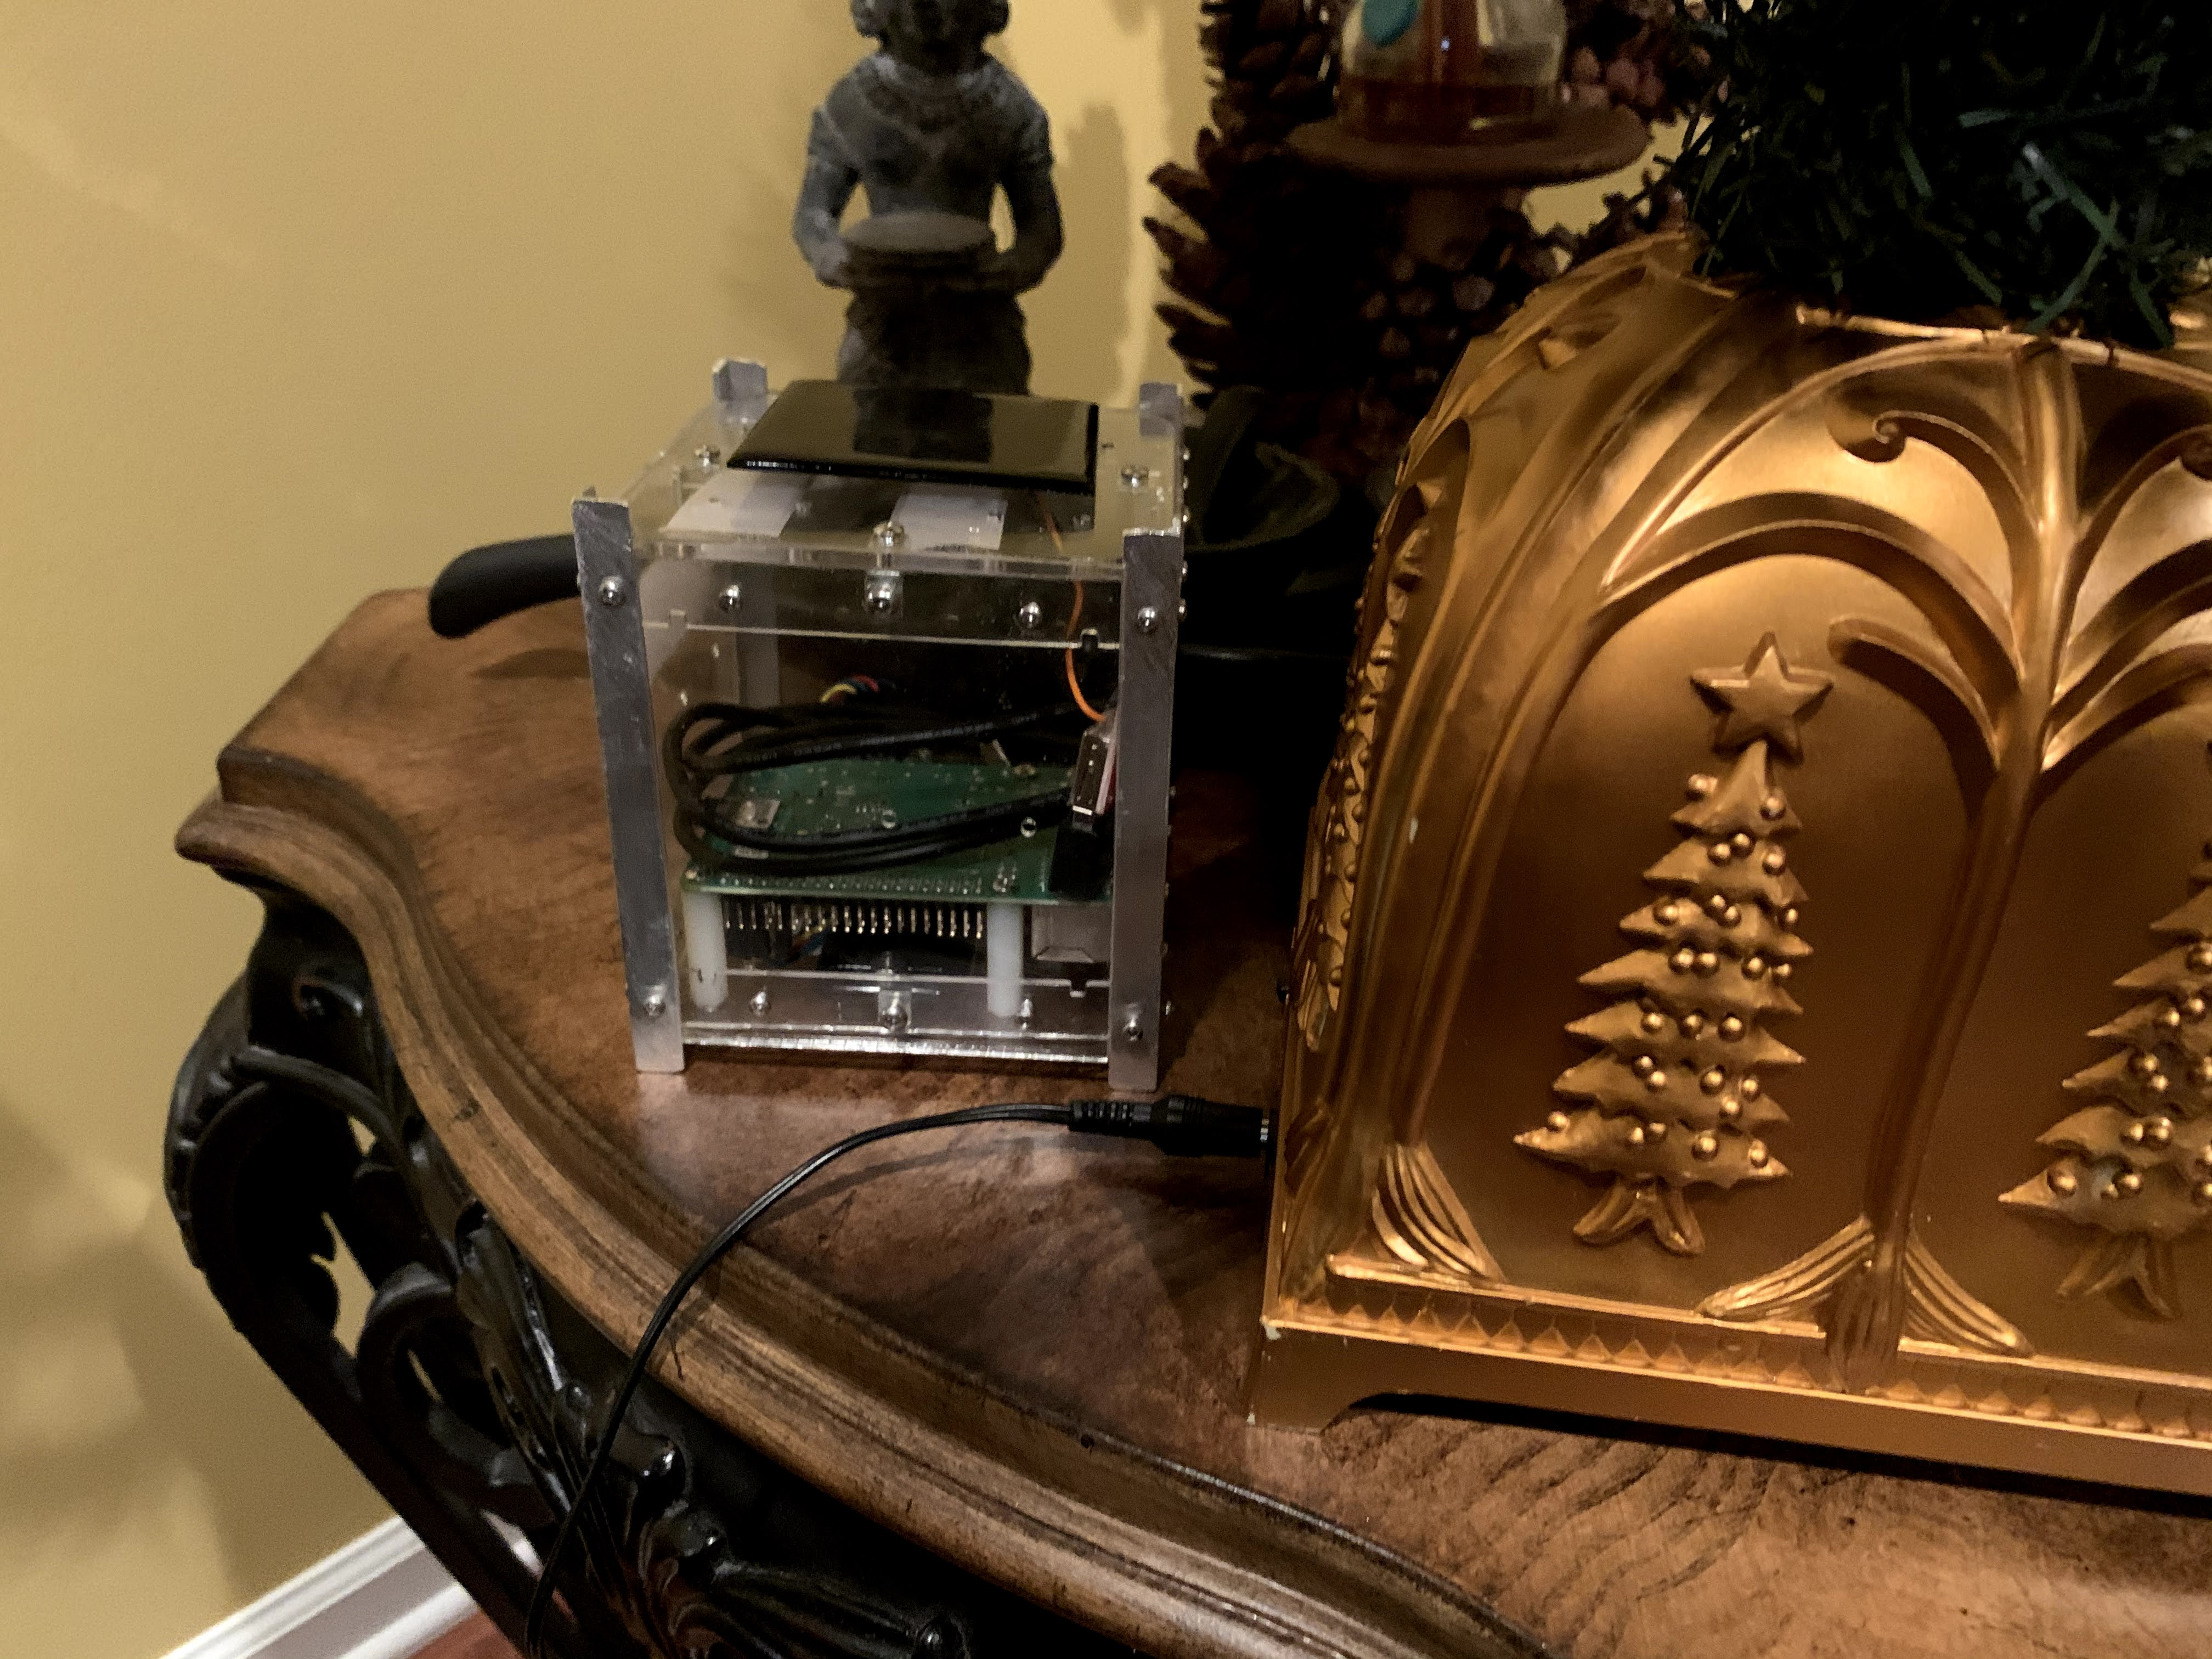Space-debris-cubesat: (580, 322, 1231, 1096)
